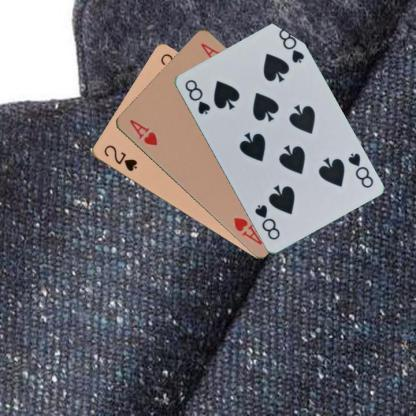2s: (101, 142, 138, 173)
8s: (344, 150, 374, 190), (182, 77, 212, 115)
Ah: (126, 117, 158, 147)
